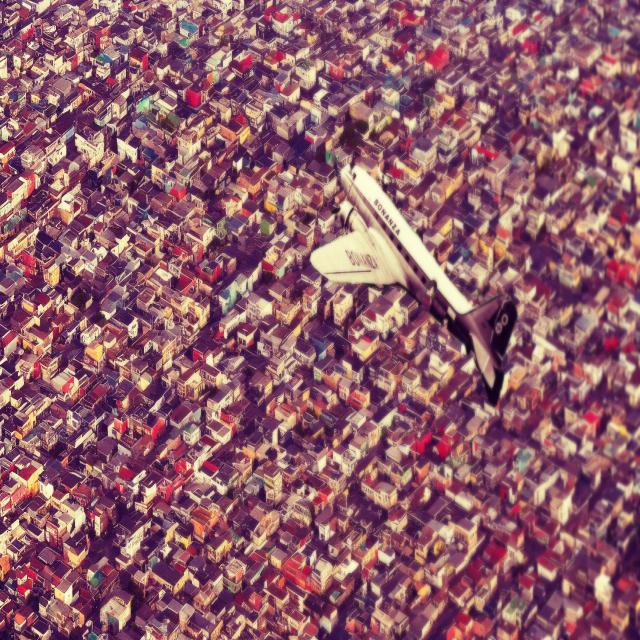airplane: (309, 161, 518, 407)
